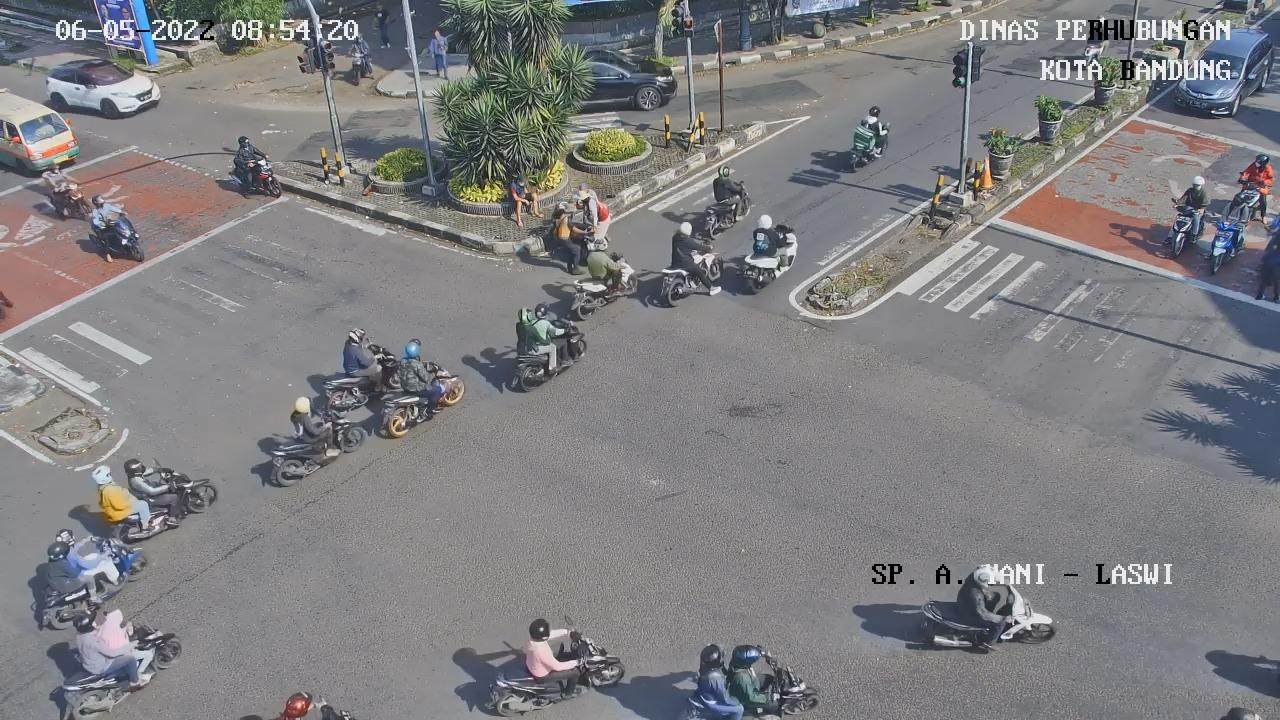accident: (509, 174, 544, 228)
